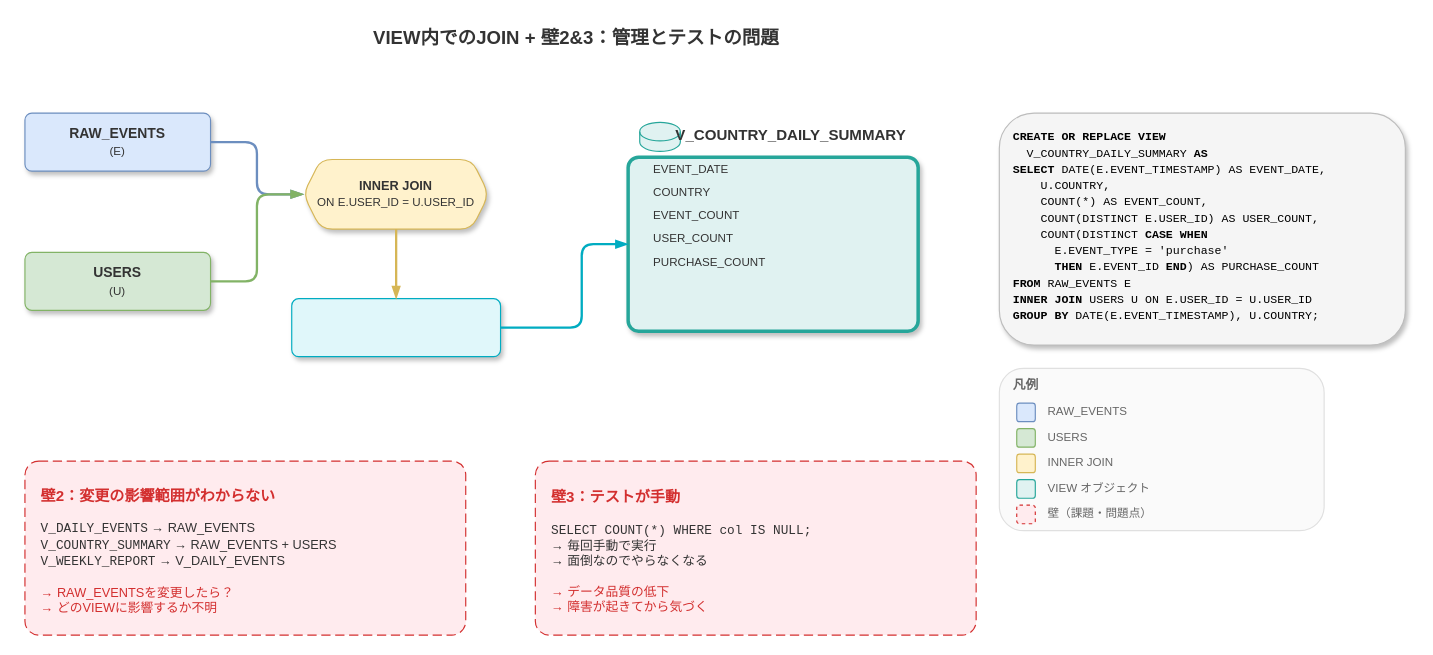
Some shapes in this 1433 by 655 pixel diagram are drawn without their labels. Here are the shapes that lost their labels. From the top down, the centre of each, then its label:
point (659, 136): VIEW
point (396, 329): GROUP BY DATE(EVENT_TIMESTAMP), U.COUNTRY
